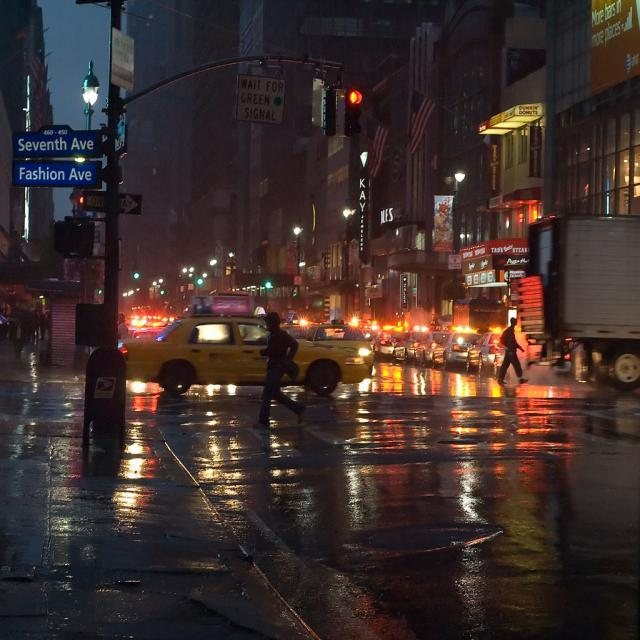traffic light: (344, 88, 362, 135)
